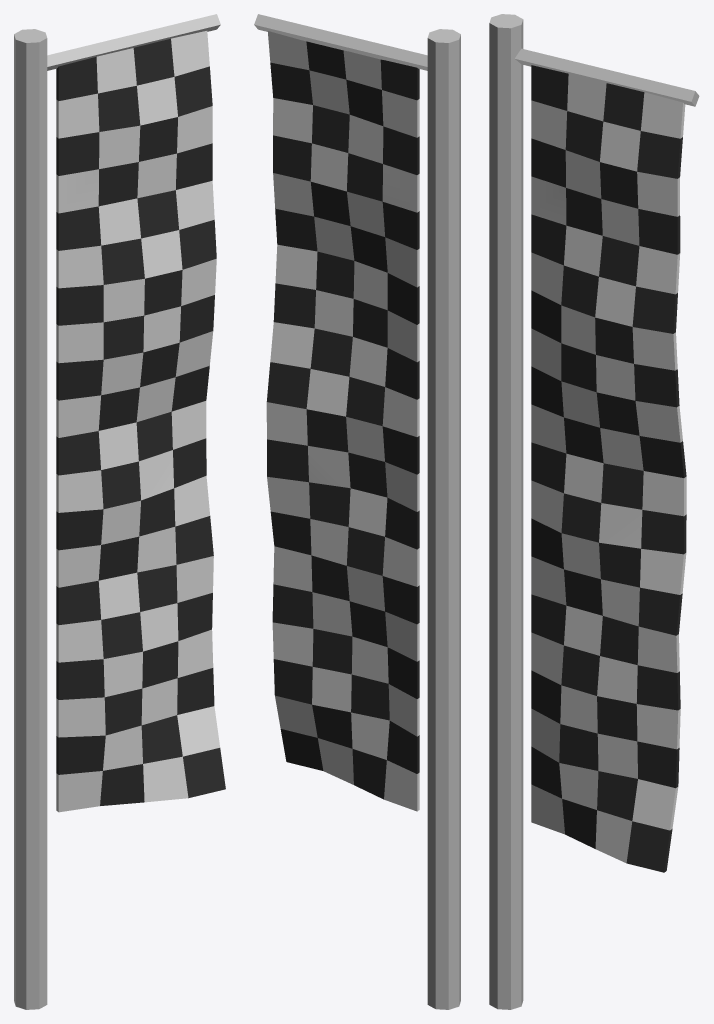
File: ETC0510020.fbx
The picture shows the model from 3 angles, left to right: view 1: azimuth 30°, elevation 25°; view 2: azimuth 150°, elevation 25°; view 3: azimuth 330°, elevation 25°; orthographic projection.
Visible parts, largest first — view 1: smETC0510020; view 2: smETC0510020; view 3: smETC0510020.
Part boxes in pixels (<box>): smETC0510020: <box>14,14,225,1009</box>; smETC0510020: <box>254,14,460,1009</box>; smETC0510020: <box>489,14,699,1009</box>.
Size of the model in its own units: 162 by 744 by 39.75.
Materials: 1 (1 with a texture image).
